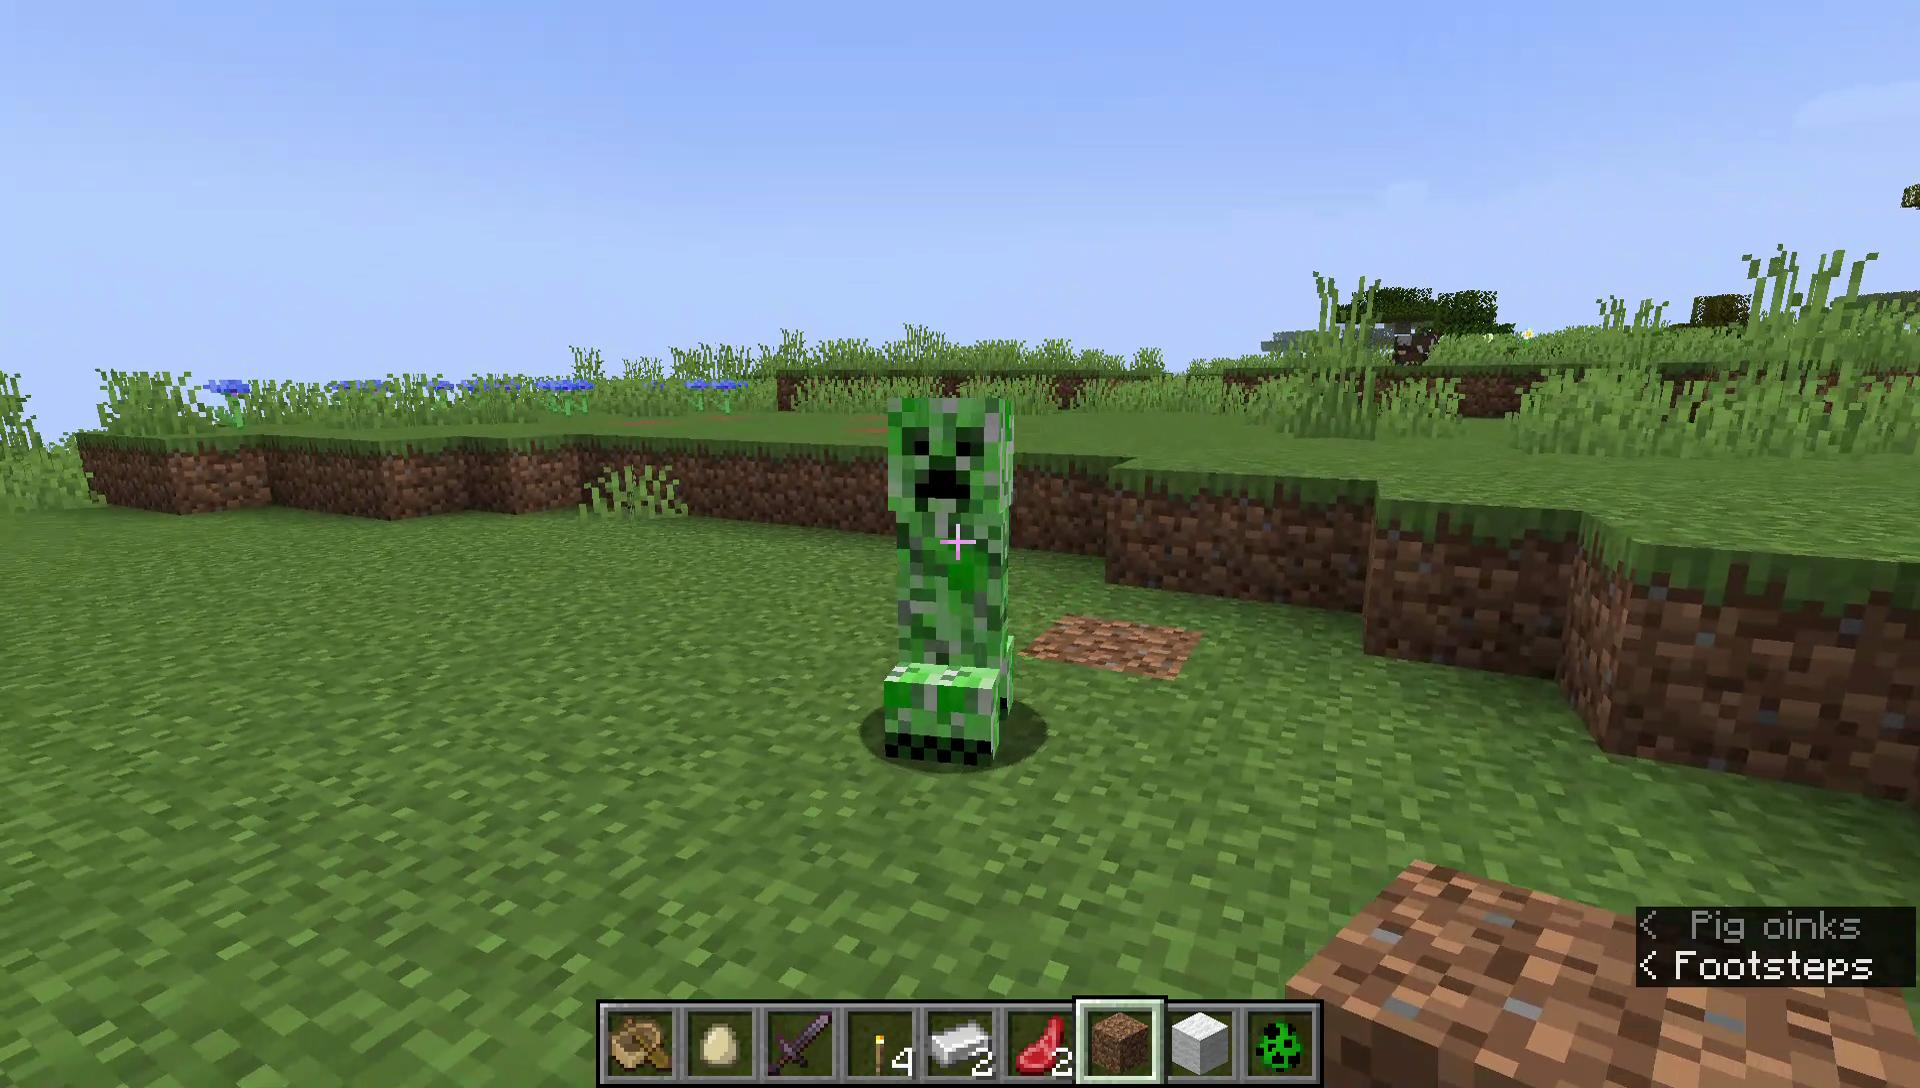creeper: (877, 384, 1023, 777)
